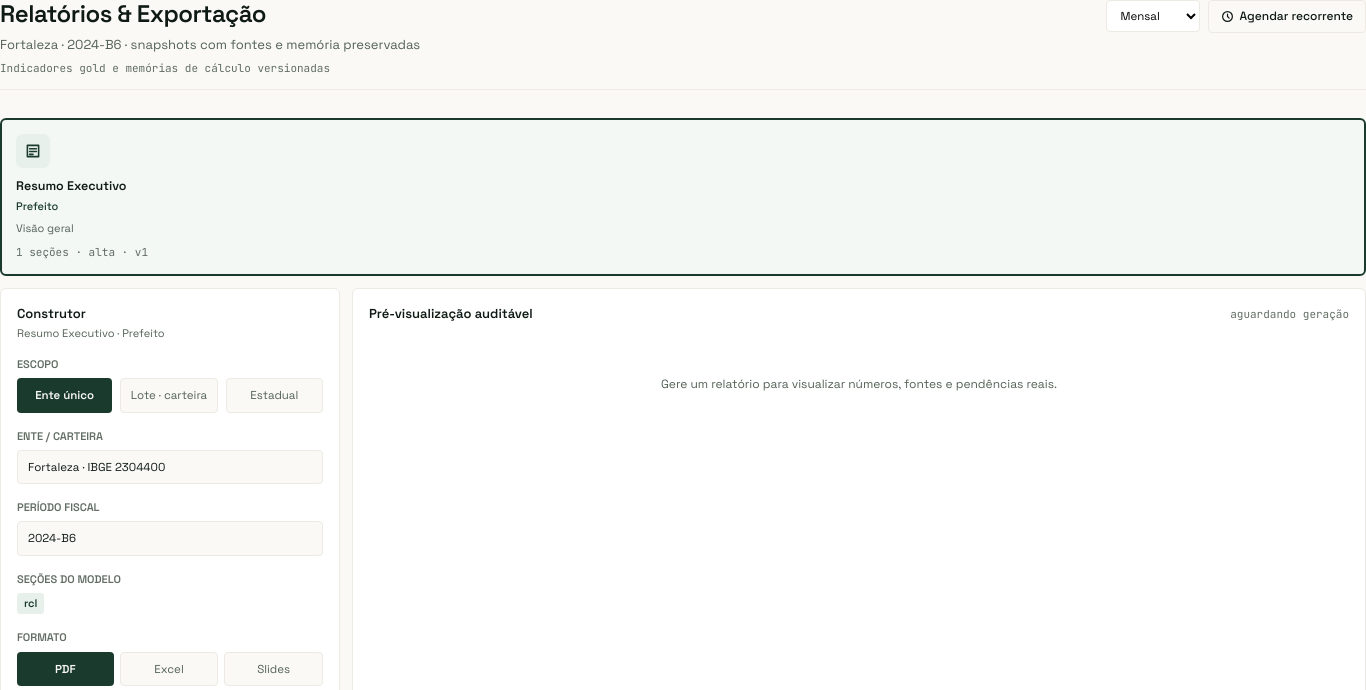
Test case: Correções herdadas (Sprint 26) › o construtor de relatórios deixa escolher os entes do lote
What coordinates should you click on to do the following:
click the button "Lote · carteira"
I would click on:
 (169, 395)
Its box is left=120, top=378, right=218, bottom=412.
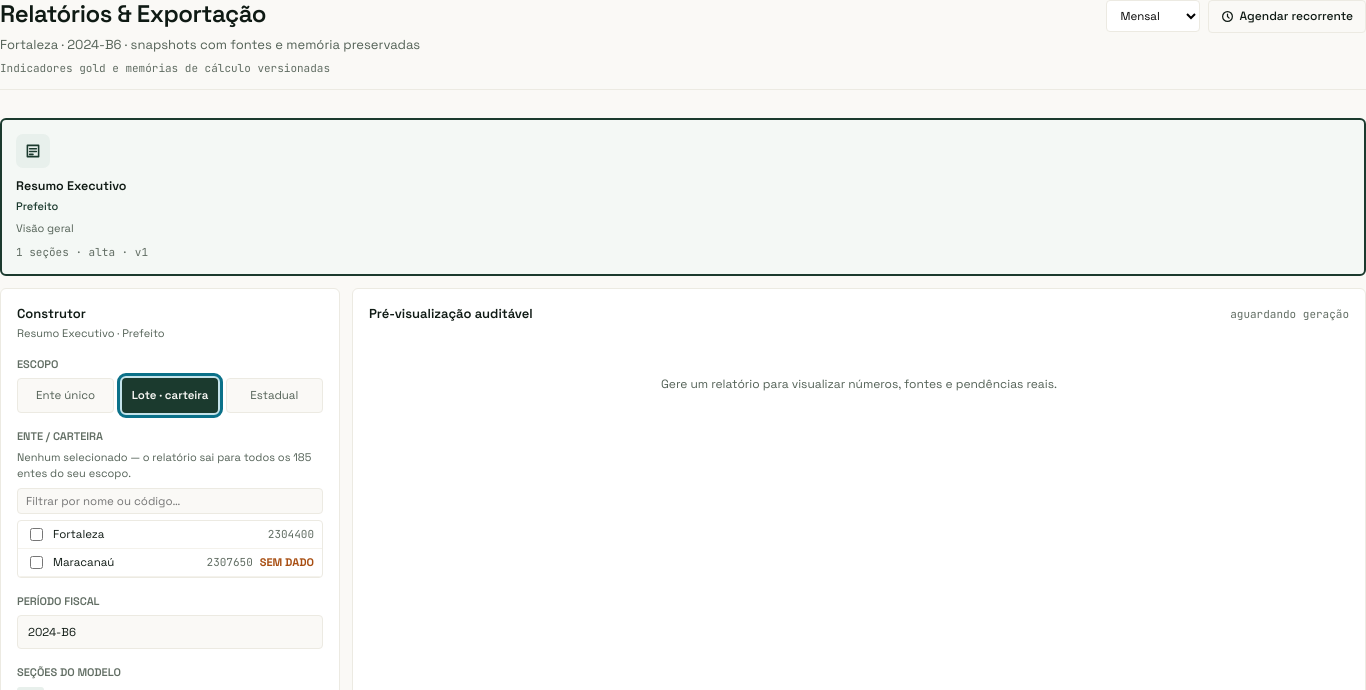
Expected: the element with test id "seletor-entes-relatorio" shows "Fortaleza", left=53, top=527, right=104, bottom=541
Expected: the element with test id "seletor-entes-relatorio" shows "SEM DADO", left=260, top=555, right=314, bottom=569
Expected: the text "o relatório sai para todos os 185 entes" is shown, left=17, top=450, right=311, bottom=480
What coordinates should you click on to do the following:
click the checkbox labelled "Fortaleza 2304400"
I would click on:
 (36, 534)
Its box is left=30, top=528, right=43, bottom=541.
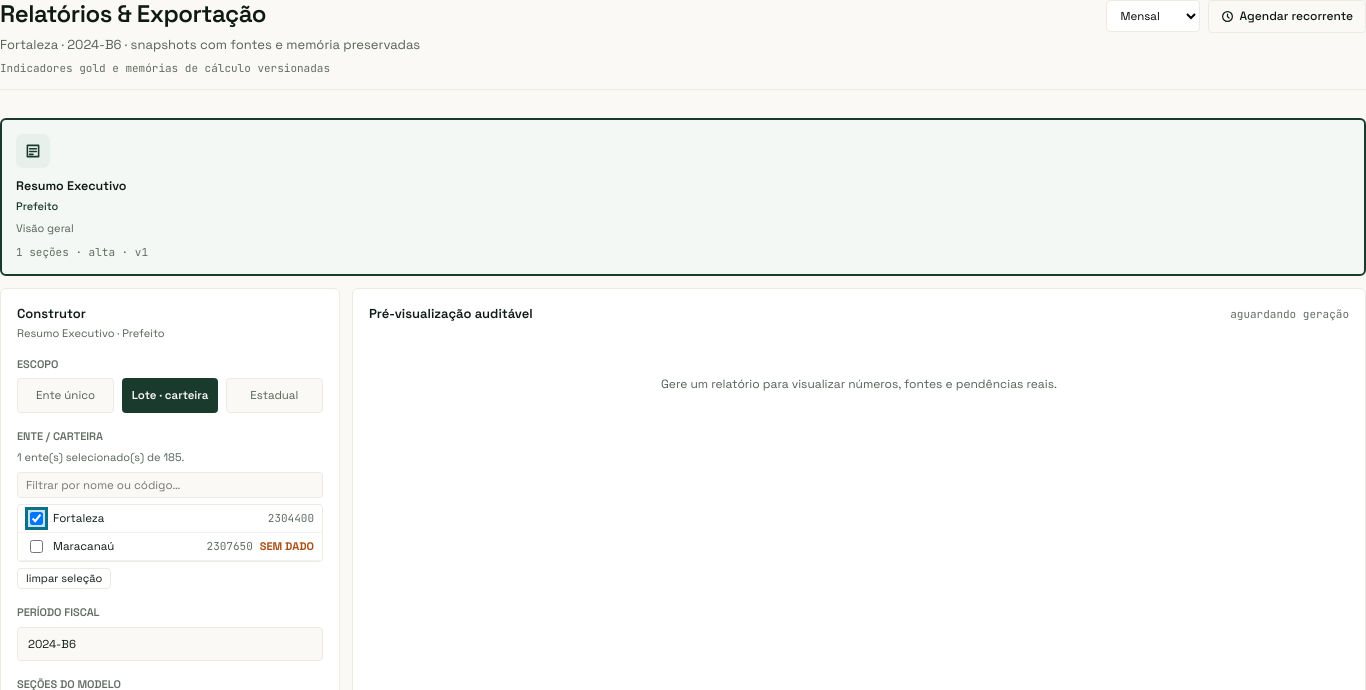
Expected: the text "1 ente(s) selecionado(s) de 185." is shown, left=17, top=450, right=184, bottom=464
